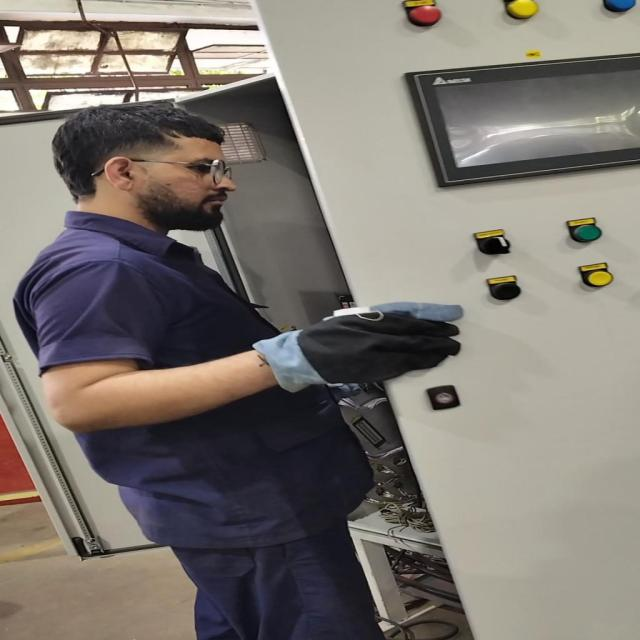Gloves-Detection: (240, 304, 482, 387)
